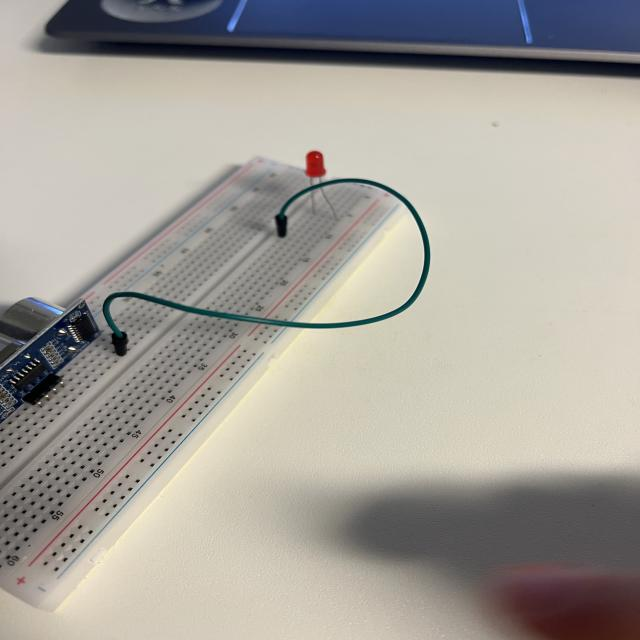BreadBoard: (8, 158, 404, 612)
REDLed: (297, 147, 343, 223)
UltrasoneSensor: (4, 288, 108, 421)
